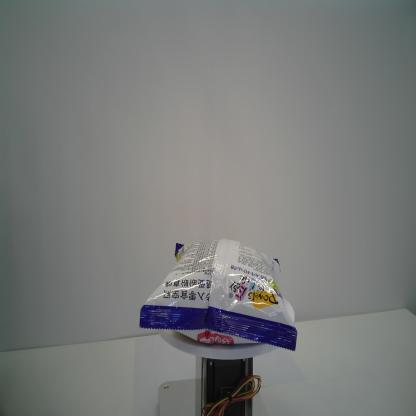Puffed Food: (138, 236, 298, 354)
